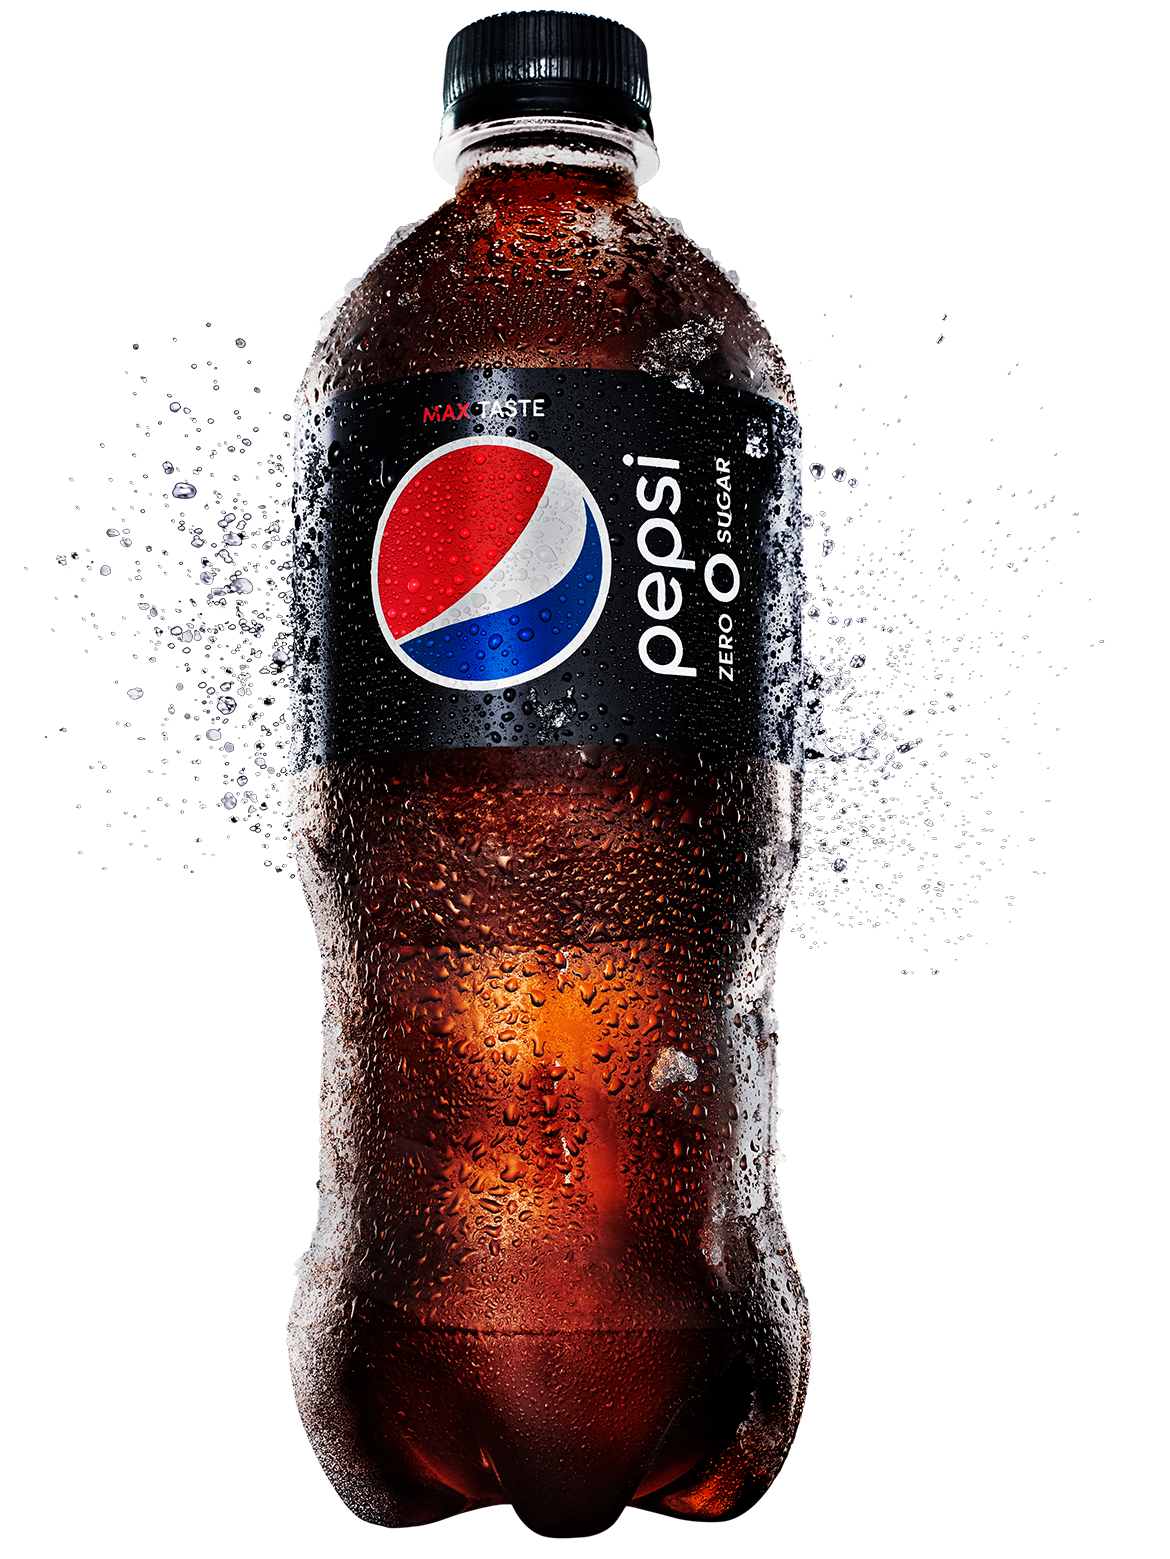pepsi: (370, 436, 610, 688), (374, 436, 610, 688)
